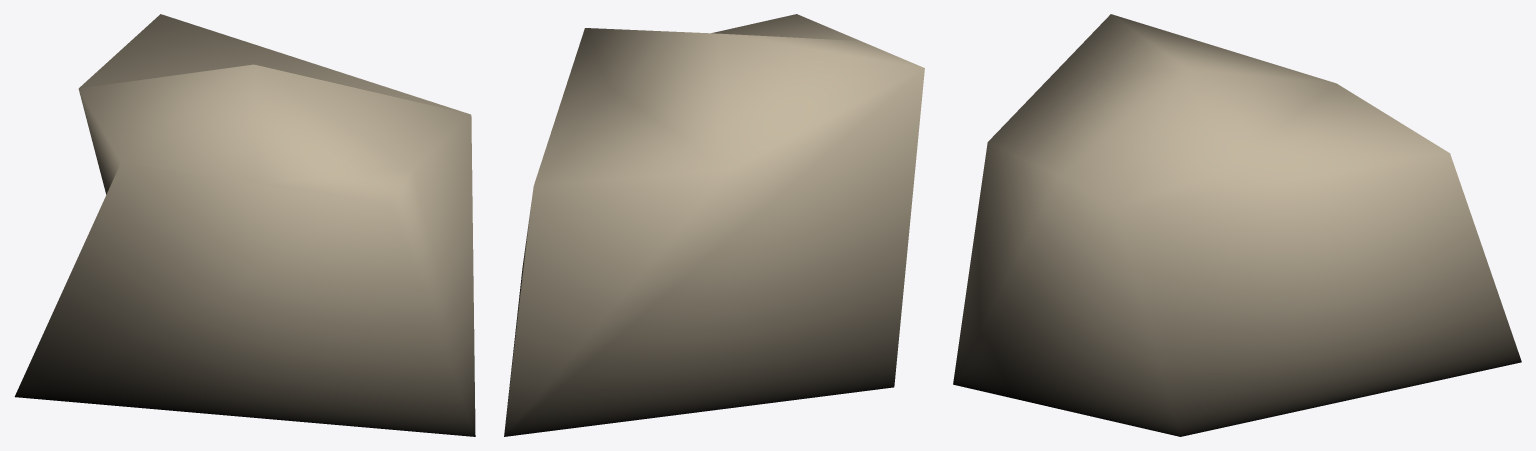
Rendered from rock.glb.
3 views of the same model, side by side, from view 1: azimuth 30°, elevation 25°; view 2: azimuth 150°, elevation 25°; view 3: azimuth 270°, elevation 25° (orthographic). The views are drawn at different scales.
Visible parts, largest first — view 1: Rock; view 2: Rock; view 3: Rock.
Part boxes in pixels (x1=…): Rock: x1=14, y1=14, x2=475, y2=436; Rock: x1=504, y1=14, x2=924, y2=436; Rock: x1=953, y1=14, x2=1521, y2=436.
Bounding box in the file's own units: 0.3138 × 0.2133 × 0.4016.
